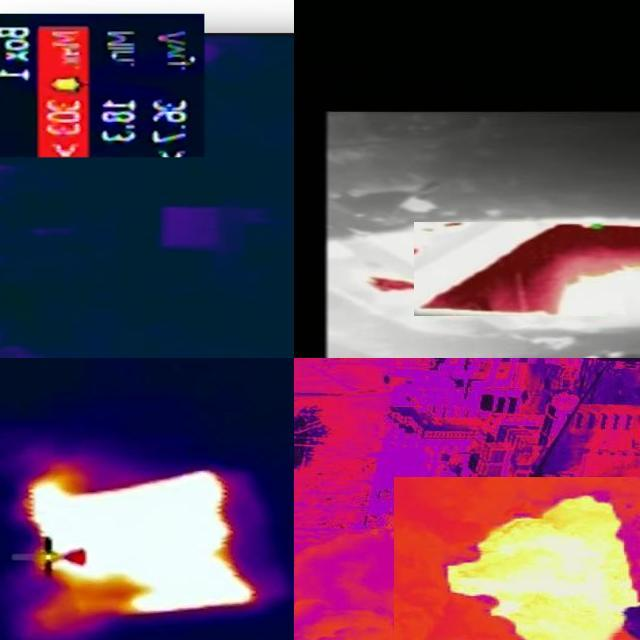fire: (15, 470, 257, 623), (445, 492, 640, 640), (414, 223, 640, 317)
